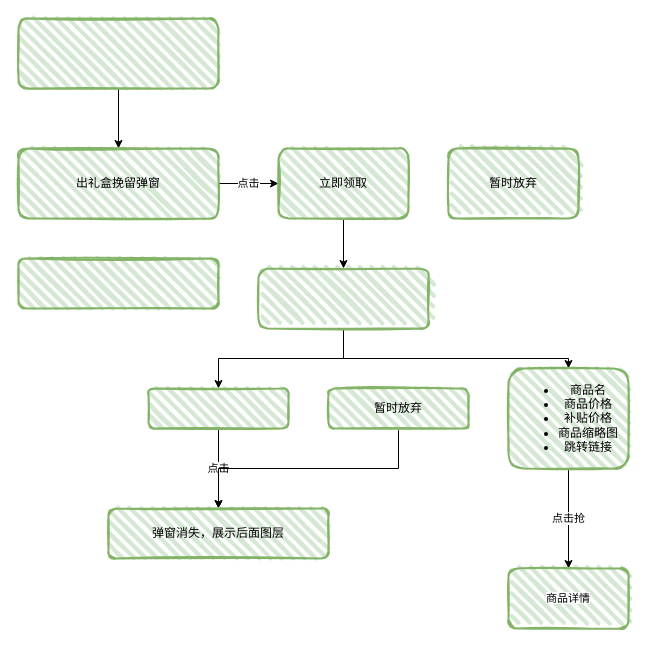
Some shapes in this 646 by 646 pixel diagram are drawn without their labels. The box of each missing label's shape, as (x1, y1, x2, y2) in pixels:
属性：title、 icon 图片: (17, 257, 219, 309)
抢低价: (147, 387, 289, 429)
挽留弹窗承接页: (257, 267, 429, 329)
超级秒杀页面退出: (17, 17, 219, 89)
